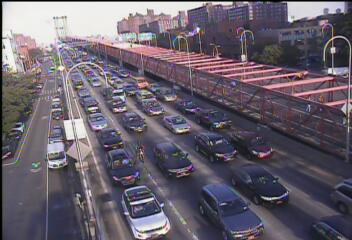neg: (98, 144, 118, 171), (168, 149, 188, 175), (82, 190, 100, 214), (131, 76, 148, 100), (73, 69, 90, 92), (167, 96, 184, 118), (247, 154, 264, 176), (266, 29, 282, 51), (41, 166, 57, 188), (249, 84, 265, 105), (127, 169, 143, 190), (207, 86, 222, 107), (158, 36, 173, 57), (300, 63, 315, 84), (207, 43, 222, 63), (212, 154, 227, 174), (85, 43, 100, 62), (58, 104, 70, 121), (288, 128, 300, 145), (74, 133, 86, 149), (114, 34, 125, 49)
